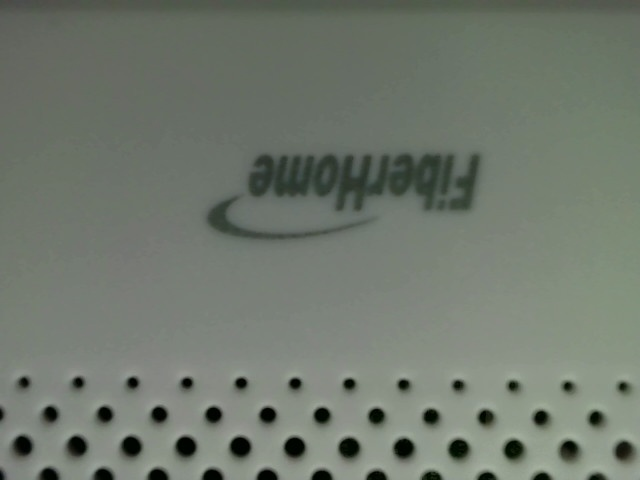AI_FiberHome: (192, 141, 493, 246)
